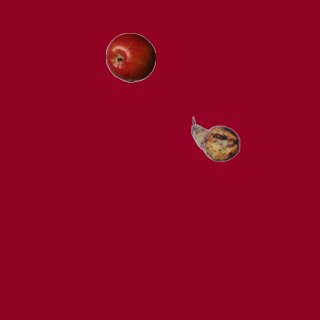Apple Braeburn: (105, 32, 155, 82)
Pear Abate: (190, 114, 240, 164)
